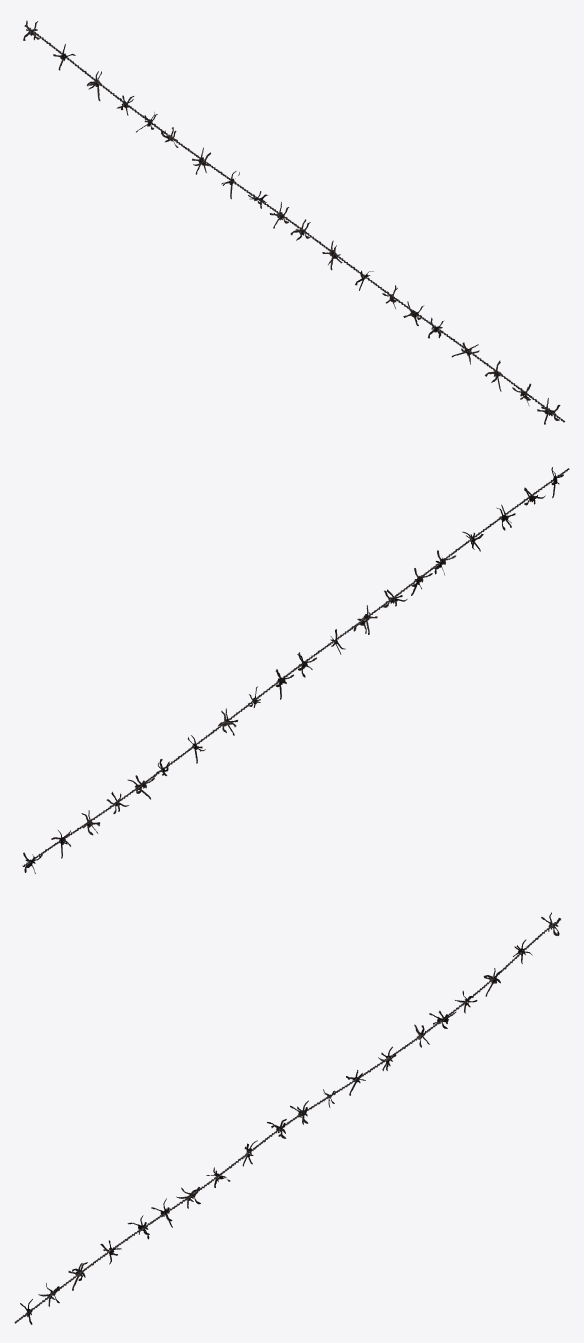
File: barbed_wire_strand.glb
3 renders of one model, top to bottom at view 1: azimuth 30°, elevation 25°; view 2: azimuth 150°, elevation 25°; view 3: azimuth 330°, elevation 25°, orthographic.
Visible parts, largest first — view 1: barbed_wire_spiral_horizontal; view 2: barbed_wire_spiral_horizontal; view 3: barbed_wire_spiral_horizontal.
Part boxes in pixels (box(x1,y1,x2,y2)): barbed_wire_spiral_horizontal: box(23, 20, 565, 424); barbed_wire_spiral_horizontal: box(22, 467, 569, 873); barbed_wire_spiral_horizontal: box(14, 912, 560, 1324).
Bounding box in the file's own units: 0.1419 × 0.1683 × 3.89.
Materials: 1 (1 with a texture image).
